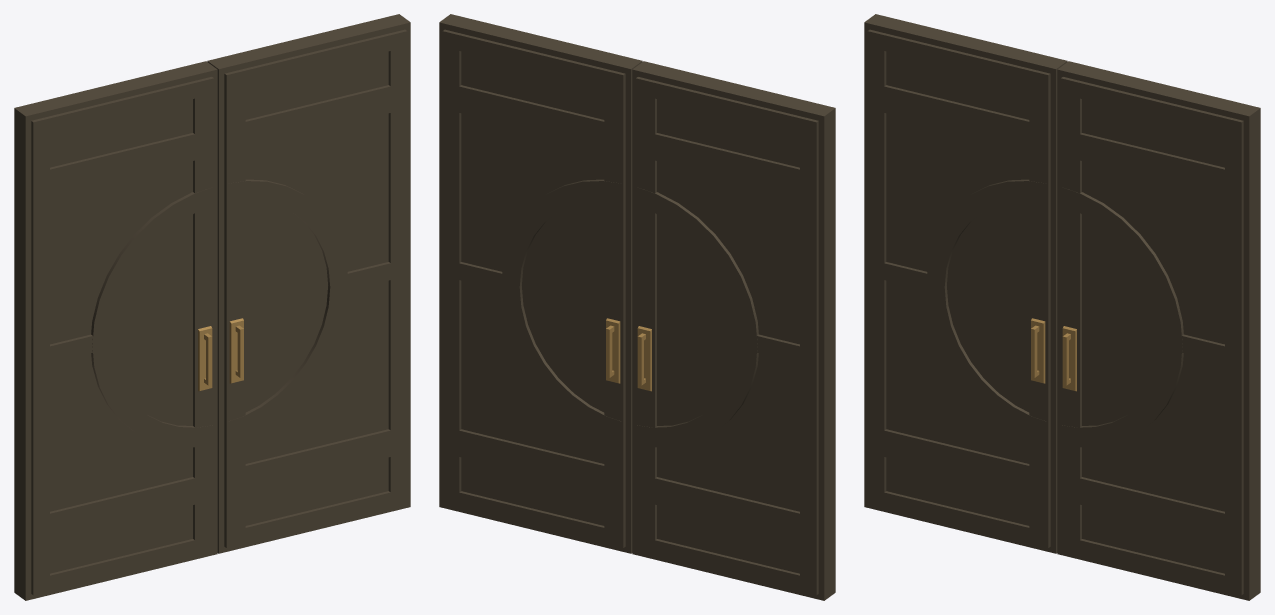
The model's file is quaternius-house-interior-door-double.glb.
The picture shows the model from 3 angles, left to right: view 1: azimuth 30°, elevation 25°; view 2: azimuth 150°, elevation 25°; view 3: azimuth 330°, elevation 25°; orthographic projection.
Visible parts, largest first — view 1: Door_DoubleLeft; view 2: Door_DoubleLeft; view 3: Door_DoubleLeft.
Part boxes in pixels (<box>): Door_DoubleLeft: <box>14,14,410,600</box>; Door_DoubleLeft: <box>439,14,835,600</box>; Door_DoubleLeft: <box>864,14,1260,600</box>.
Size of the model in its own units: 3.48 by 4.19 by 0.4299.
